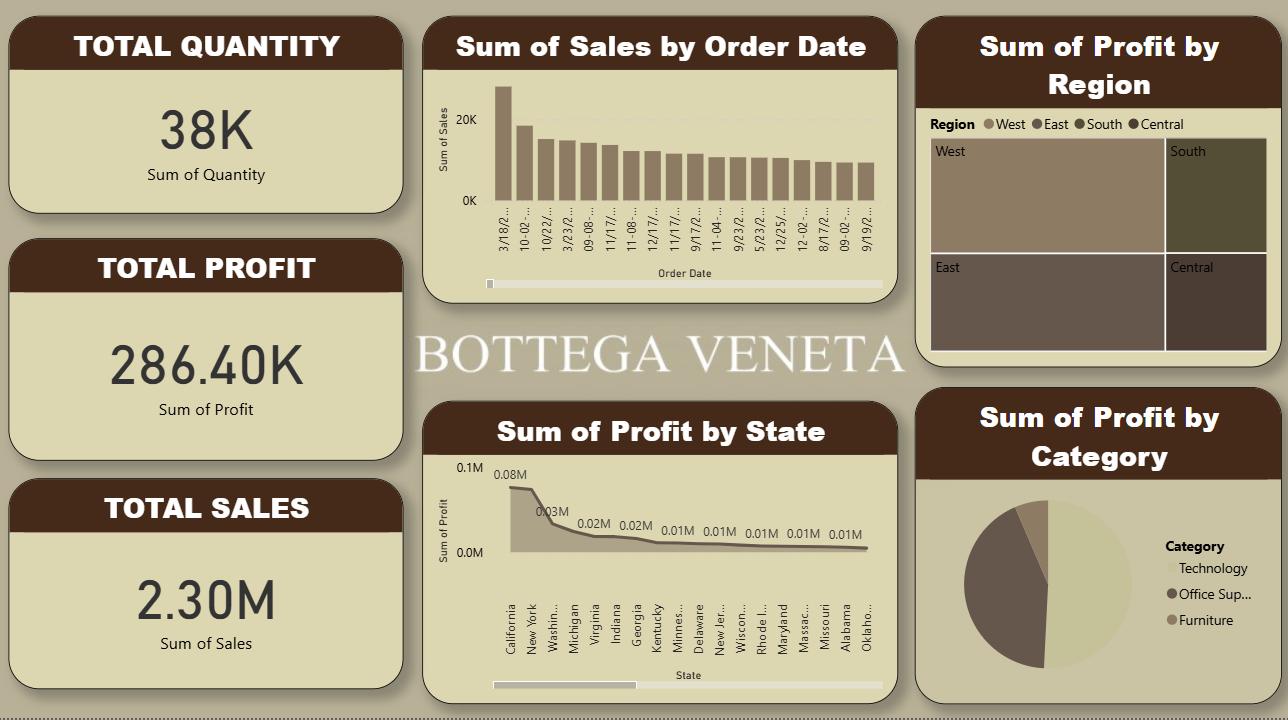

This screenshot's page, from the dashboard's own definition file:
{"tool":"powerbi","page":{"name":"Page 1","canvas":[1280,720],"ordinal":0},"visuals":[{"type":"columnChart","fields":{"Y":["Sum(Sample - Superstore.Sales)"],"Category":["Sample - Superstore.Order Date"]},"box":[426.8,33,465.9,281.3],"z":0},{"type":"stackedAreaChart","fields":{"Category":["Sample - Superstore.State"],"Y":["Sum(Sample - Superstore.Profit)"]},"box":[426.8,409.6,465.9,297.1],"z":1000},{"type":"card","title":"TOTAL PROFIT","fields":{"Values":["Sum(Sample - Superstore.Profit)"]},"box":[22,250.7,386.4,217.7],"z":2000},{"type":"card","title":"TOTAL QUANTITY","fields":{"Values":["Sum(Sample - Superstore.Quantity)"]},"box":[22,33,386.4,193.2],"z":3000},{"type":"card","title":"TOTAL SALES","fields":{"Values":["Sum(Sample - Superstore.Sales)"]},"box":[22,485.5,386.4,206.7],"z":4000},{"type":"treemap","fields":{"Group":["Sample - Superstore.Region"],"Values":["Sum(Sample - Superstore.Profit)"]},"box":[908.6,33,359.5,343.6],"z":5000},{"type":"pieChart","fields":{"Y":["Sum(Sample - Superstore.Profit)"],"Category":["Sample - Superstore.Category"]},"box":[908.6,396.2,359.5,310.6],"z":5001}]}

Visuals, with their boxes in screenshot pixels (x1, y1, x2, y2), scaled from the page's 1280x720 canvas onto the 1288x720 screenshot:
columnChart - Sum(Sample - Superstore.Sales) x Sample - Superstore.Order Date: 429,33,898,314
stackedAreaChart - Sample - Superstore.State x Sum(Sample - Superstore.Profit): 429,410,898,707
"TOTAL PROFIT" card: 22,251,411,468
"TOTAL QUANTITY" card: 22,33,411,226
"TOTAL SALES" card: 22,486,411,692
treemap - Sample - Superstore.Region x Sum(Sample - Superstore.Profit): 914,33,1276,377
pieChart - Sum(Sample - Superstore.Profit) x Sample - Superstore.Category: 914,396,1276,707
